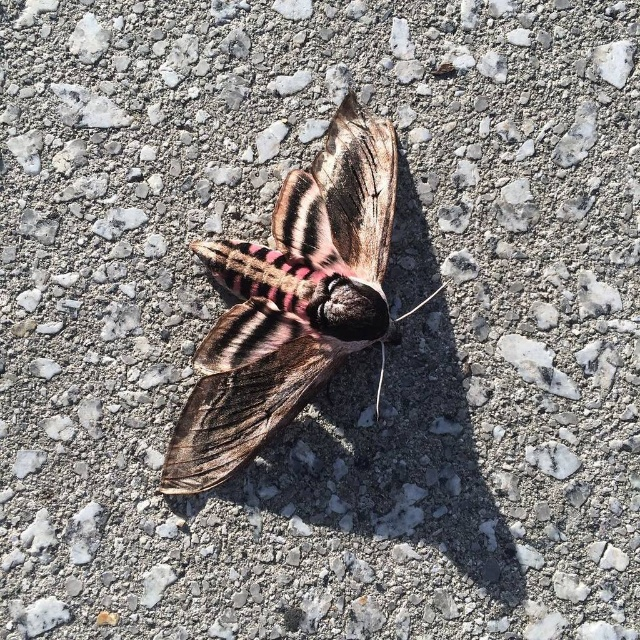Butterfly: (158, 91, 444, 496)
